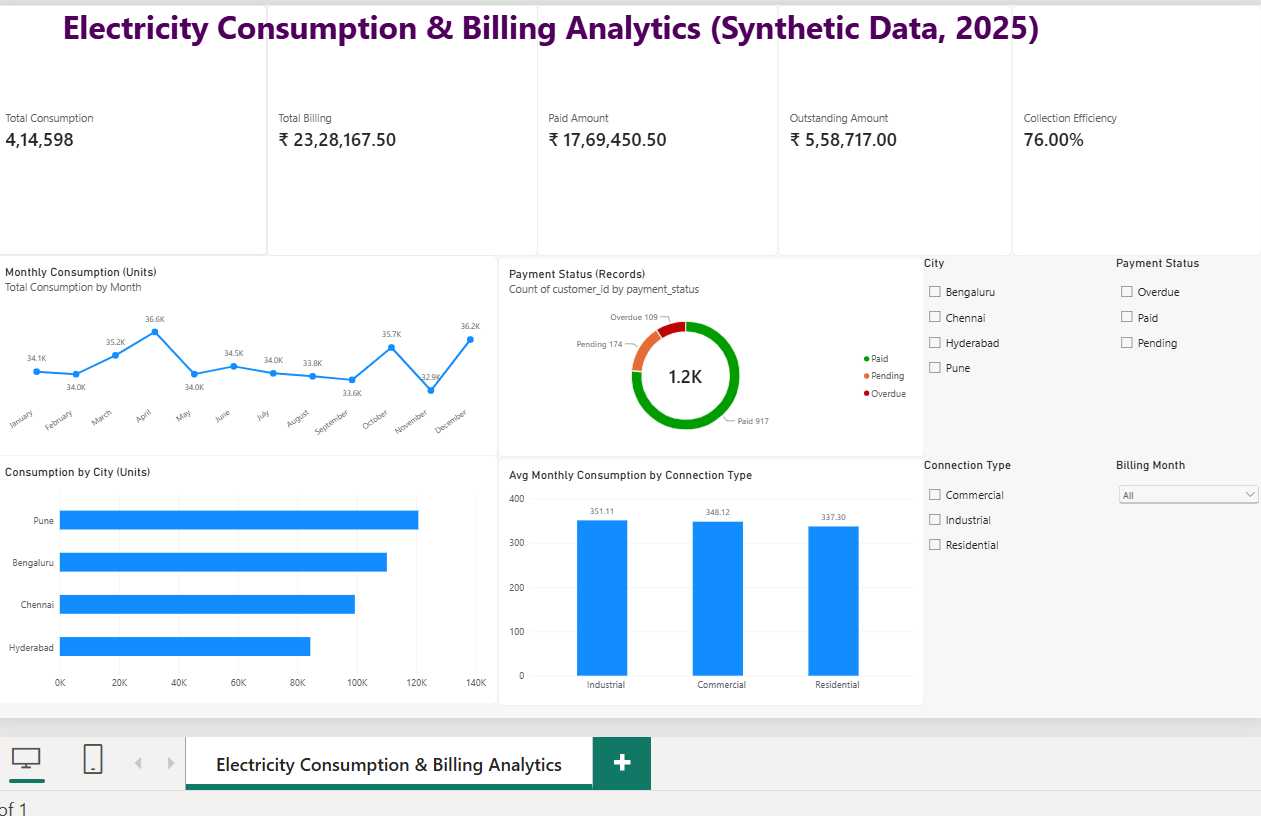

Layout of this report page (visuals, bound fields, positions):
{"tool":"powerbi","page":{"name":"Electricity Consumption & Billing Analytics","canvas":[1920,1080],"ordinal":0},"visuals":[{"type":"cardVisual","title":"Total Consumption","fields":{"Data":["consumption_records.Total Consumption"]},"box":[0,0,413.1,380.2],"z":0},{"type":"cardVisual","title":"Total Billing","fields":{"Data":["consumption_records.Total Billing"]},"box":[413.1,0,410.1,380.2],"z":1},{"type":"cardVisual","title":"Collection efficiency","fields":{"Data":["consumption_records.Collection Efficiency"]},"box":[1541.8,0,377.2,380.2],"z":2},{"type":"cardVisual","title":"Paid Amount","fields":{"Data":["consumption_records.Paid Amount"]},"box":[823.3,0,365.2,380.2],"z":3},{"type":"cardVisual","title":"Outstanding Amount","fields":{"Data":["consumption_records.Outstanding Amount"]},"box":[1188.5,0,353.3,380.2],"z":4},{"type":"lineChart","title":"Monthly Consumption (Units)","fields":{"Category":["consumption_records.billing_month.Variation.Date Hierarchy.Month"],"Y":["consumption_records.Total Consumption"]},"box":[0,380,762.5,307.5],"z":5},{"type":"clusteredBarChart","title":"Consumption by City (Units)","fields":{"Category":["customers.city"],"Y":["consumption_records.Total Consumption"]},"box":[0,682.5,762.5,377.5],"z":6},{"type":"donutChart","title":"Payment Status (Records)","fields":{"Category":["consumption_records.payment_status"],"Y":["CountNonNull(consumption_records.customer_id)"]},"box":[762.5,382.5,645,302.5],"z":7},{"type":"clusteredColumnChart","title":"Avg Monthly Consumption by Connection Type","fields":{"Category":["customers.connection_type"],"Y":["Avg(consumption_records.units_consumed)"]},"box":[763,686,645,375],"z":8},{"type":"slicer","title":"City","fields":{"Values":["customers.city"]},"box":[1407.5,380,290,245],"z":9},{"type":"slicer","title":"Connection Type","fields":{"Values":["customers.connection_type"]},"box":[1408,686,290,375],"z":10},{"type":"slicer","title":"Payment Status","fields":{"Values":["consumption_records.payment_status"]},"box":[1698,380,221,245],"z":11},{"type":"slicer","title":"Billing Month","fields":{"Values":["consumption_records.billing_month"]},"box":[1698,686,221,375],"z":12},{"type":"textbox","box":[100,0,1487.5,100],"z":13}]}

Visuals, with their boxes on the page's 1920x1080 design canvas (x1, y1, x2, y2). These are canvas units, not pixel positions in the 1261x816 screenshot, which may show the page scaled, cropped or inside an application window:
"Total Consumption" cardVisual: region(0, 0, 413, 380)
"Total Billing" cardVisual: region(413, 0, 823, 380)
"Collection efficiency" cardVisual: region(1542, 0, 1919, 380)
"Paid Amount" cardVisual: region(823, 0, 1188, 380)
"Outstanding Amount" cardVisual: region(1188, 0, 1542, 380)
"Monthly Consumption (Units)" lineChart: region(0, 380, 762, 688)
"Consumption by City (Units)" clusteredBarChart: region(0, 682, 762, 1060)
"Payment Status (Records)" donutChart: region(762, 382, 1408, 685)
"Avg Monthly Consumption by Connection Type" clusteredColumnChart: region(763, 686, 1408, 1061)
"City" slicer: region(1408, 380, 1698, 625)
"Connection Type" slicer: region(1408, 686, 1698, 1061)
"Payment Status" slicer: region(1698, 380, 1919, 625)
"Billing Month" slicer: region(1698, 686, 1919, 1061)
textbox: region(100, 0, 1588, 100)
